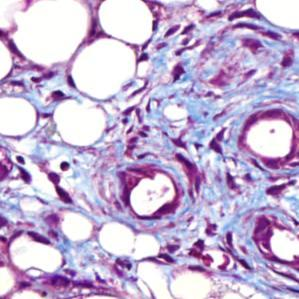steatosis: (71, 43, 135, 99), (97, 1, 161, 43)
